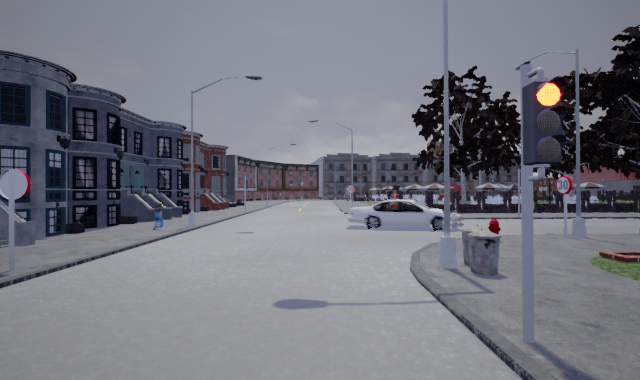pedestrian: (147, 200, 169, 229), (389, 188, 402, 215)
traffic_light: (522, 81, 567, 166)
traffic_sign: (555, 176, 571, 194), (346, 184, 355, 194)
vehicle: (344, 199, 465, 233)
